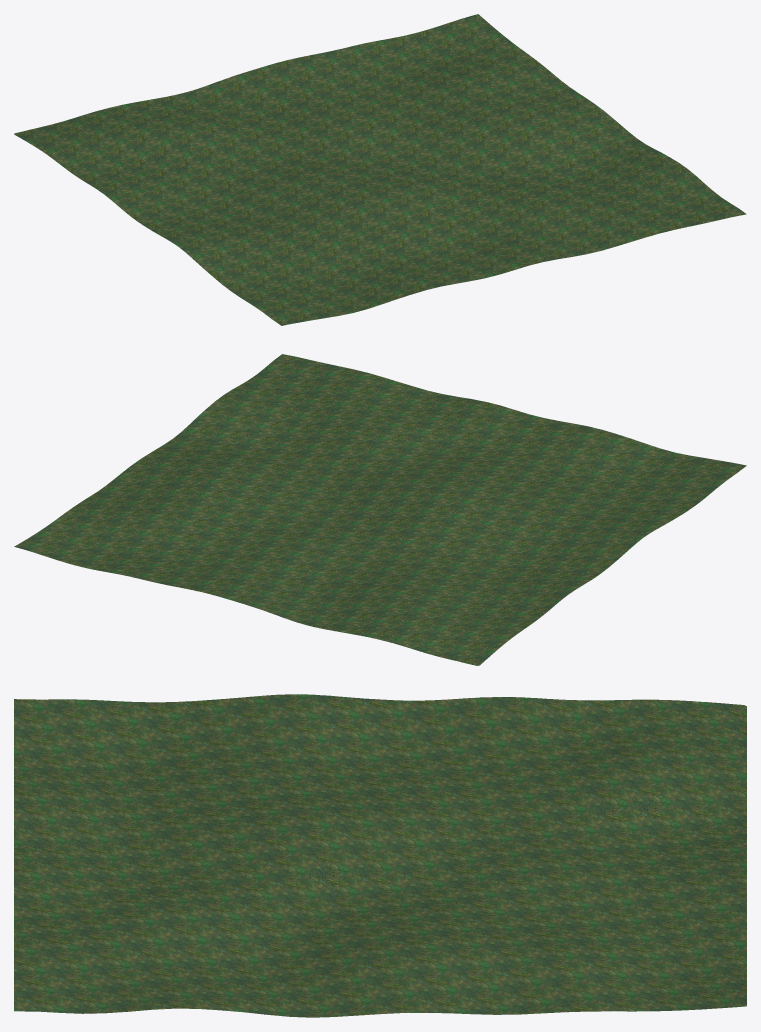
Rendered from Hills.glb.
3 views of the same model, one above another, from view 1: azimuth 30°, elevation 25°; view 2: azimuth 150°, elevation 25°; view 3: azimuth 270°, elevation 25° (orthographic). The views are drawn at different scales.
Size of the model in its own units: 19.85 by 0.5298 by 19.85.
1 material, 1 textured.
